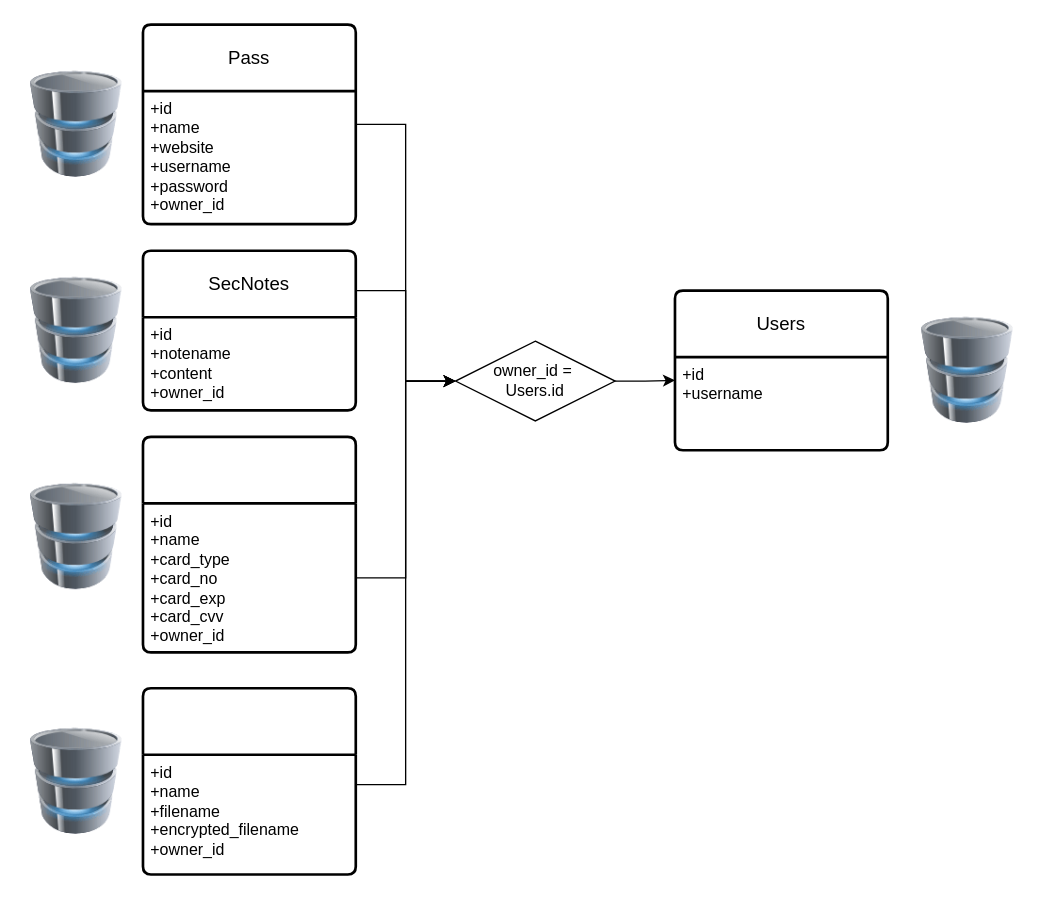
Image size: 1043x898. Some labels were removed from this diagram. The box of each missing label's shape, as (x1, y1, x2, y2) in pixels:
Cards: (141, 435, 356, 653)
Files: (141, 686, 356, 875)
